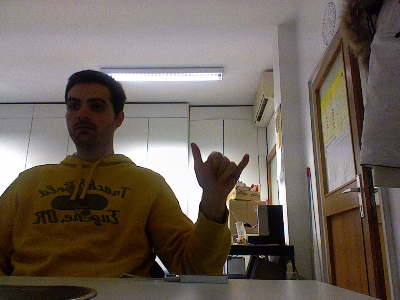六六六: (188, 141, 250, 199)
